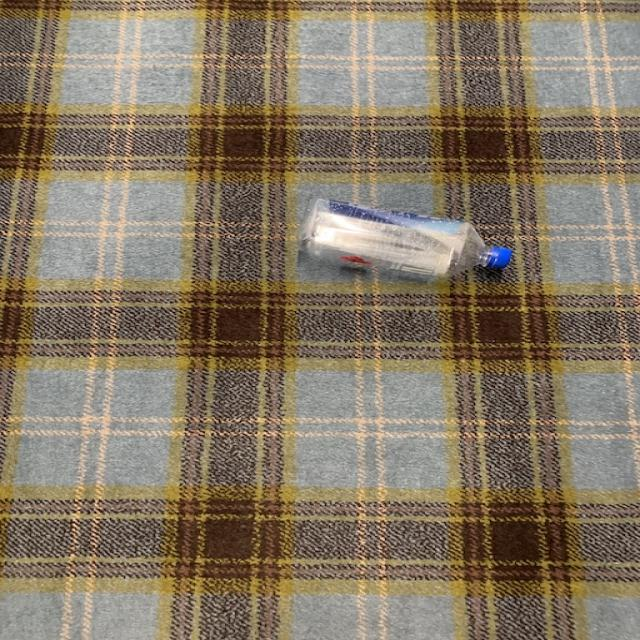Plastic: (299, 199, 512, 278)
